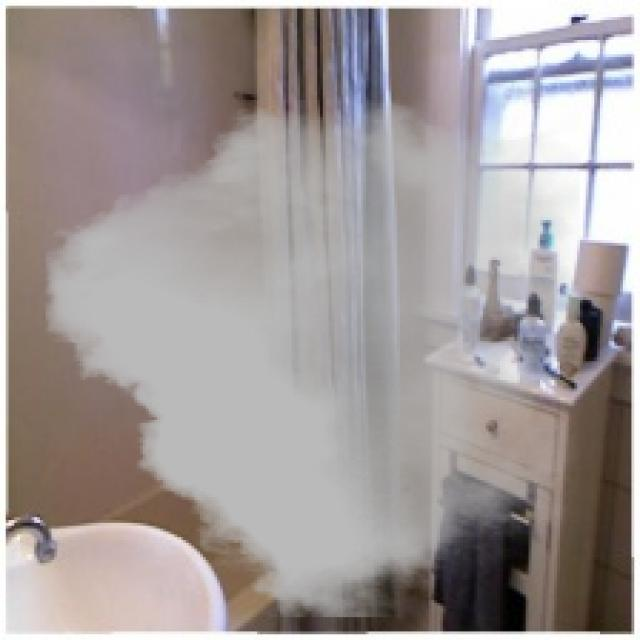smoke: (46, 100, 580, 617)
